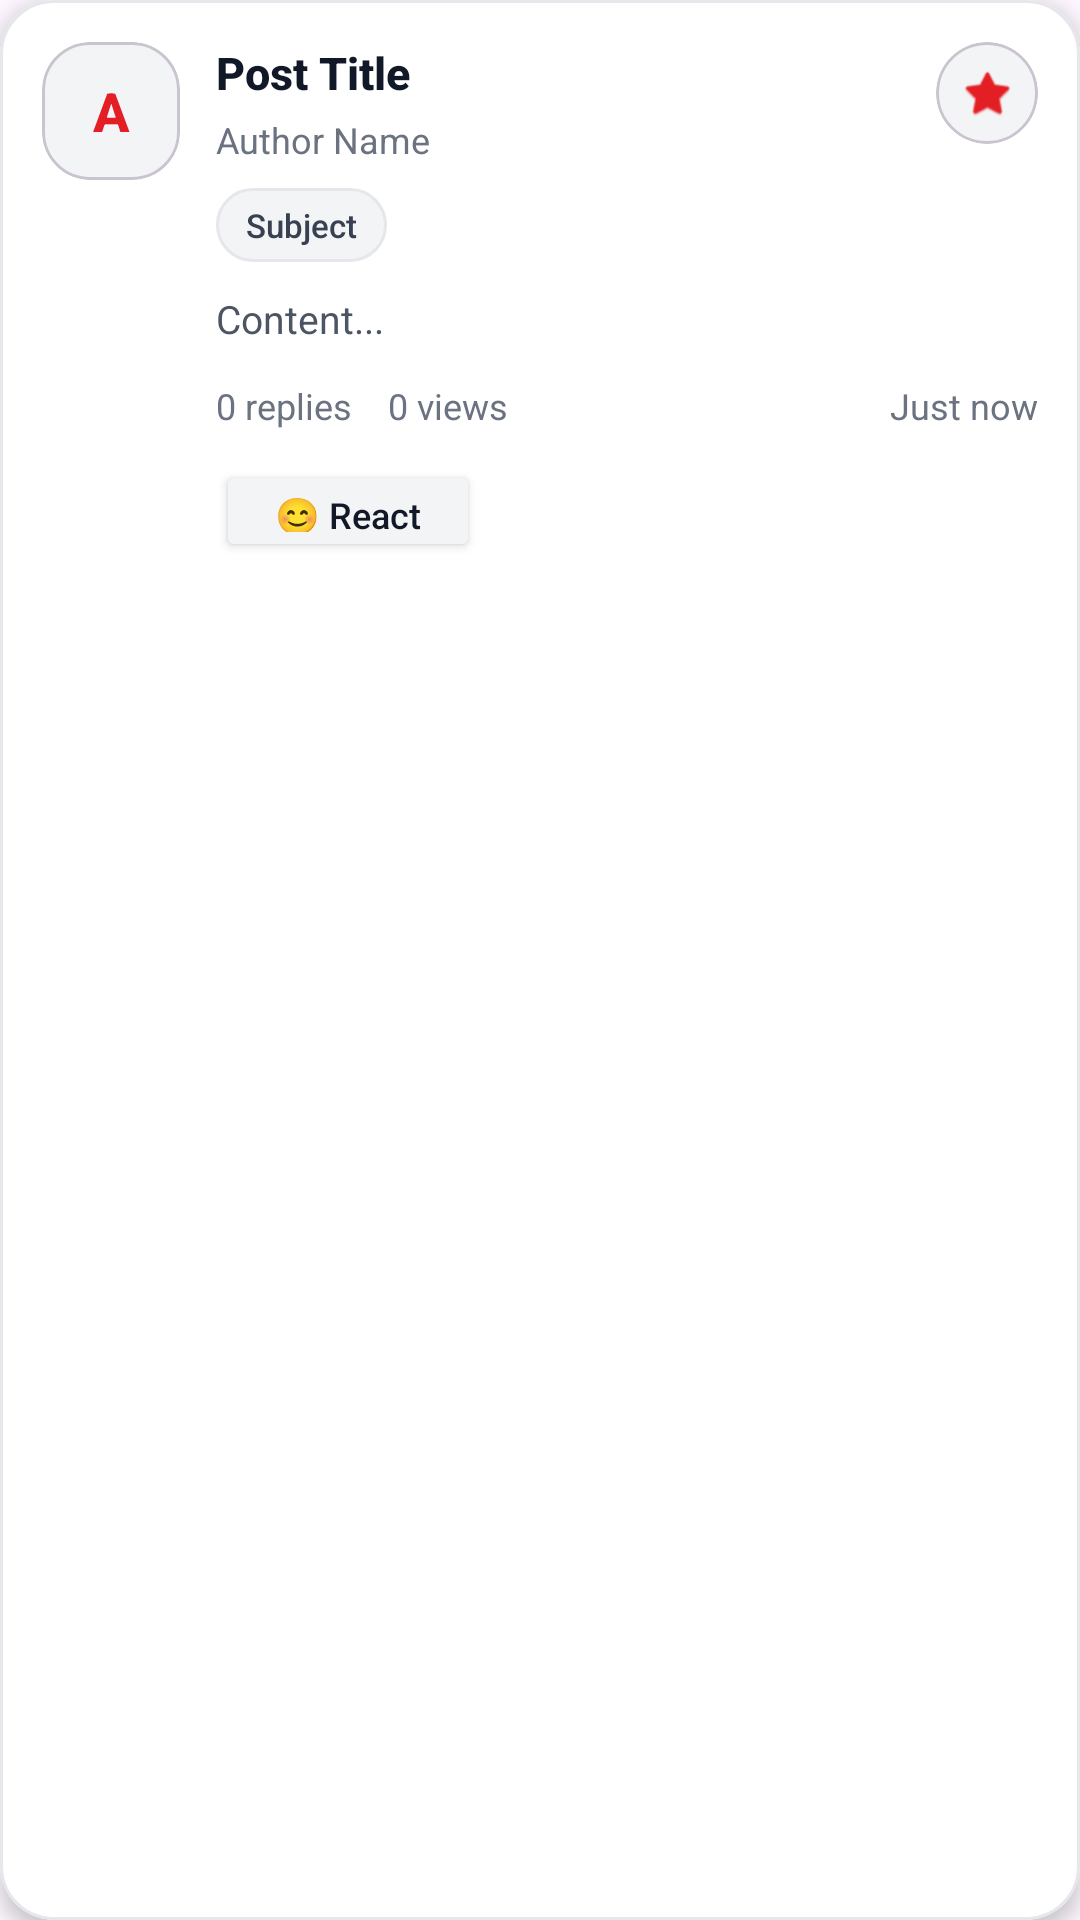

Icon bounding boxes for this 1080 × 1920 phone screenshot, format (x1, y1, x2, y2):
Add to Favorites: (936, 42, 1038, 144)
